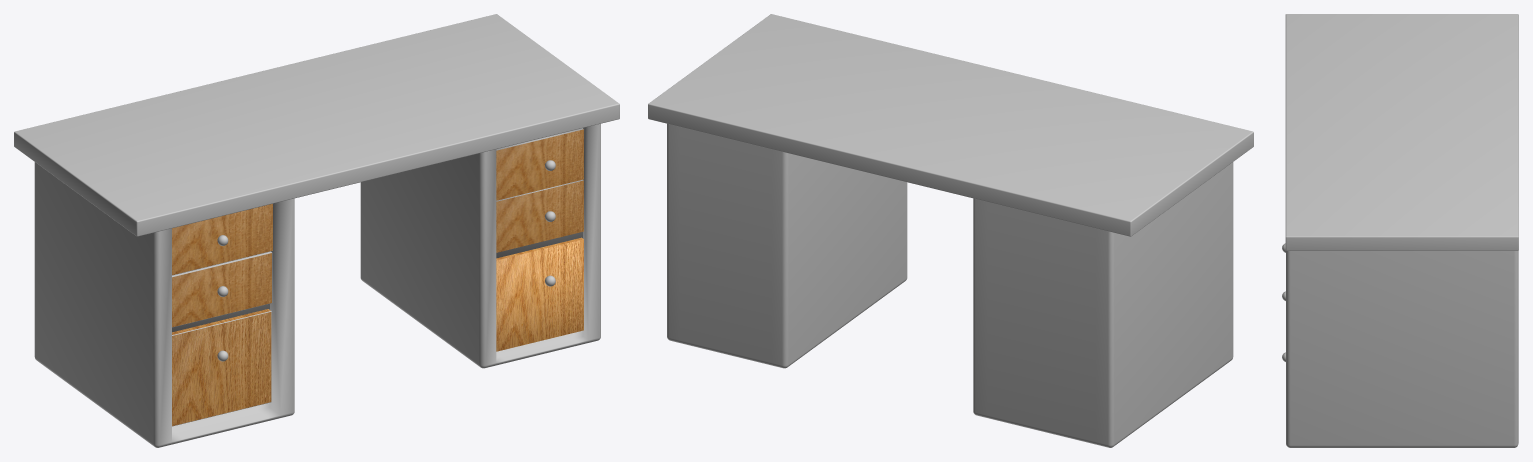
The model's file is desk1.fbx.
3 renders of one model, left to right at view 1: azimuth 30°, elevation 25°; view 2: azimuth 150°, elevation 25°; view 3: azimuth 270°, elevation 25°, orthographic. The views are drawn at different scales.
Parts seen in each view (by area): view 1: Desk, Object001; view 2: Desk; view 3: Desk.
Boxes of the visible parts, bbox=[...] form: Desk: bbox=[14, 14, 619, 447]; Object001: bbox=[172, 129, 583, 425]; Desk: bbox=[648, 14, 1253, 447]; Desk: bbox=[1282, 14, 1518, 447].
Bounding box in the file's own units: 31.25 × 14.43 × 14.02.
